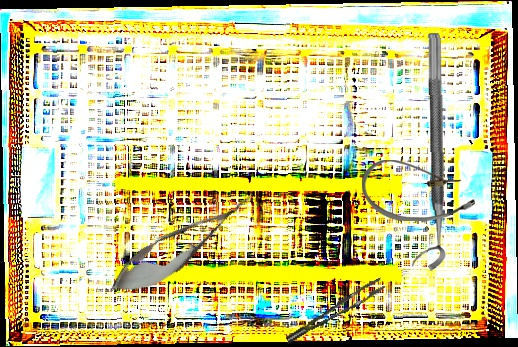Cannula: (362, 160, 475, 221)
Fixation Ring: (407, 33, 447, 272)
Micro Scissor: (100, 179, 265, 309)
Tissue Forceps: (279, 277, 390, 344)
